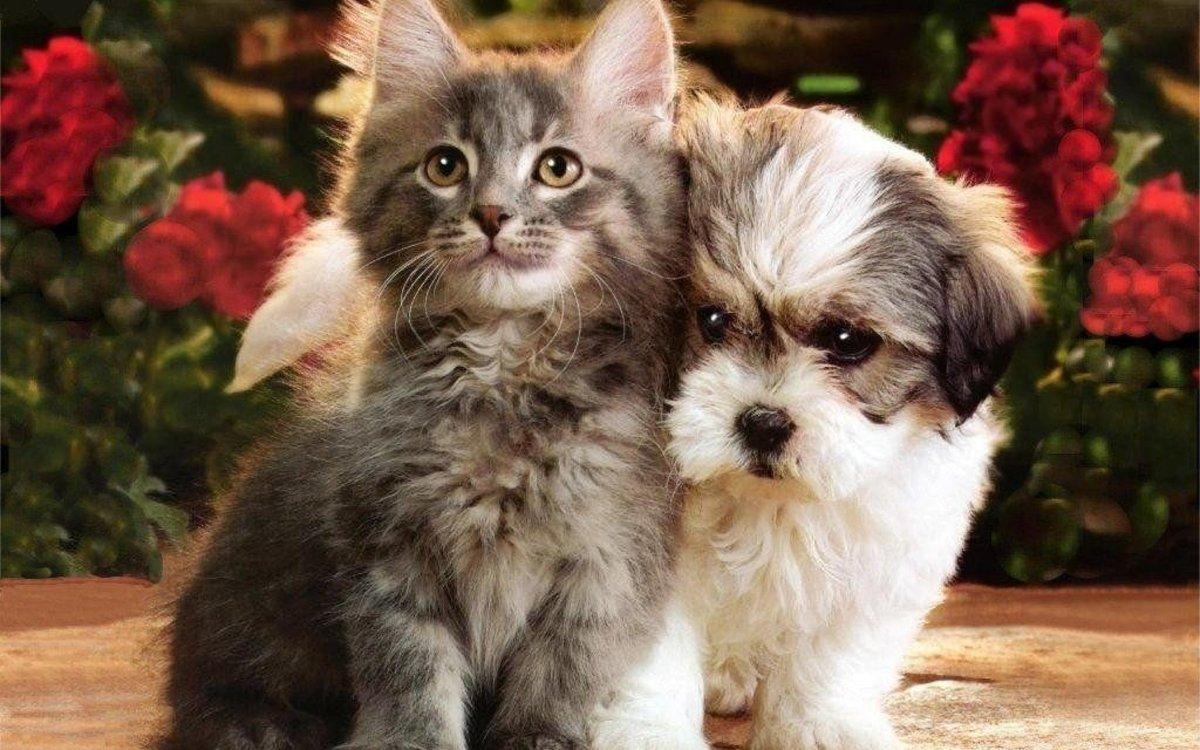animals: (654, 88, 1099, 687), (316, 0, 667, 746)
